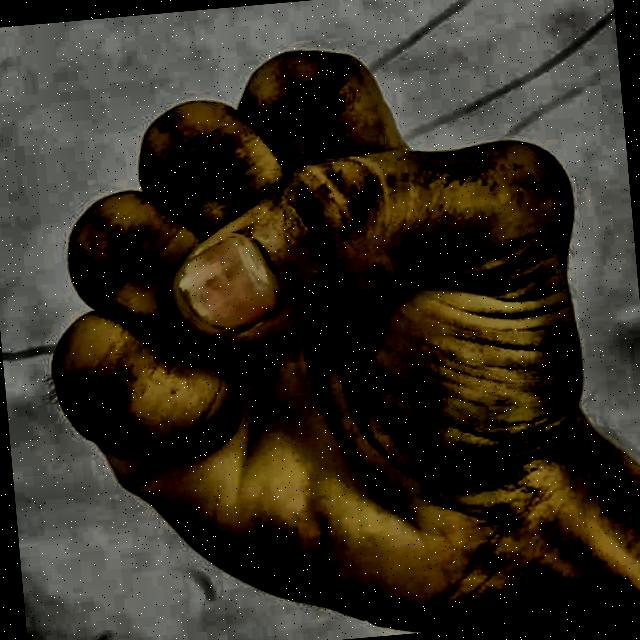Sha: (3, 3, 628, 640)
